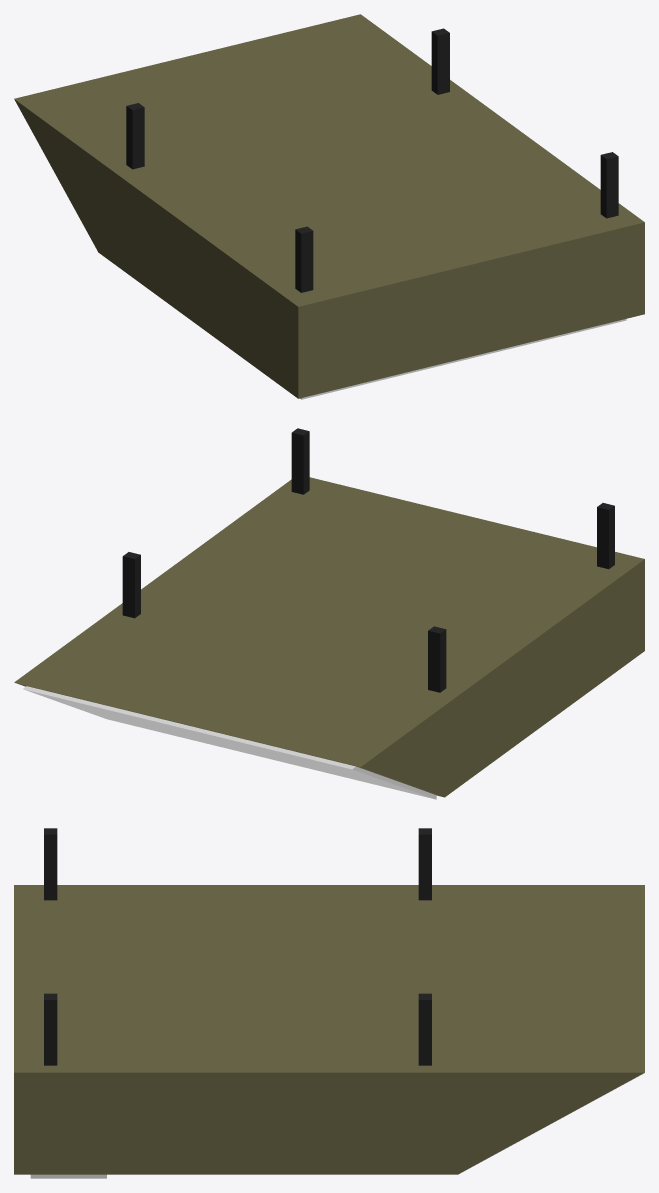
The model's file is aircon.fbx.
3 views of the same model, one above another, from view 1: azimuth 30°, elevation 25°; view 2: azimuth 150°, elevation 25°; view 3: azimuth 270°, elevation 25° (orthographic). The views are drawn at different scales.
Visible parts, largest first — view 1: Cube.001, Cube.005, Cube.003; view 2: Cube.001, Cube.002, Cube.005; view 3: Cube.001, Cube.005.
Part boxes in pixels (left/top/right/bottom): Cube.001: left=14, top=14, right=644, bottom=398; Cube.005: left=126, top=28, right=618, bottom=292; Cube.003: left=300, top=319, right=626, bottom=399; Cube.001: left=14, top=477, right=644, bottom=797; Cube.002: left=23, top=686, right=436, bottom=799; Cube.005: left=122, top=428, right=614, bottom=692; Cube.001: left=14, top=885, right=644, bottom=1174; Cube.005: left=44, top=828, right=431, bottom=1065.
Bounding box in the file's own units: 200 × 88.28 × 284.
